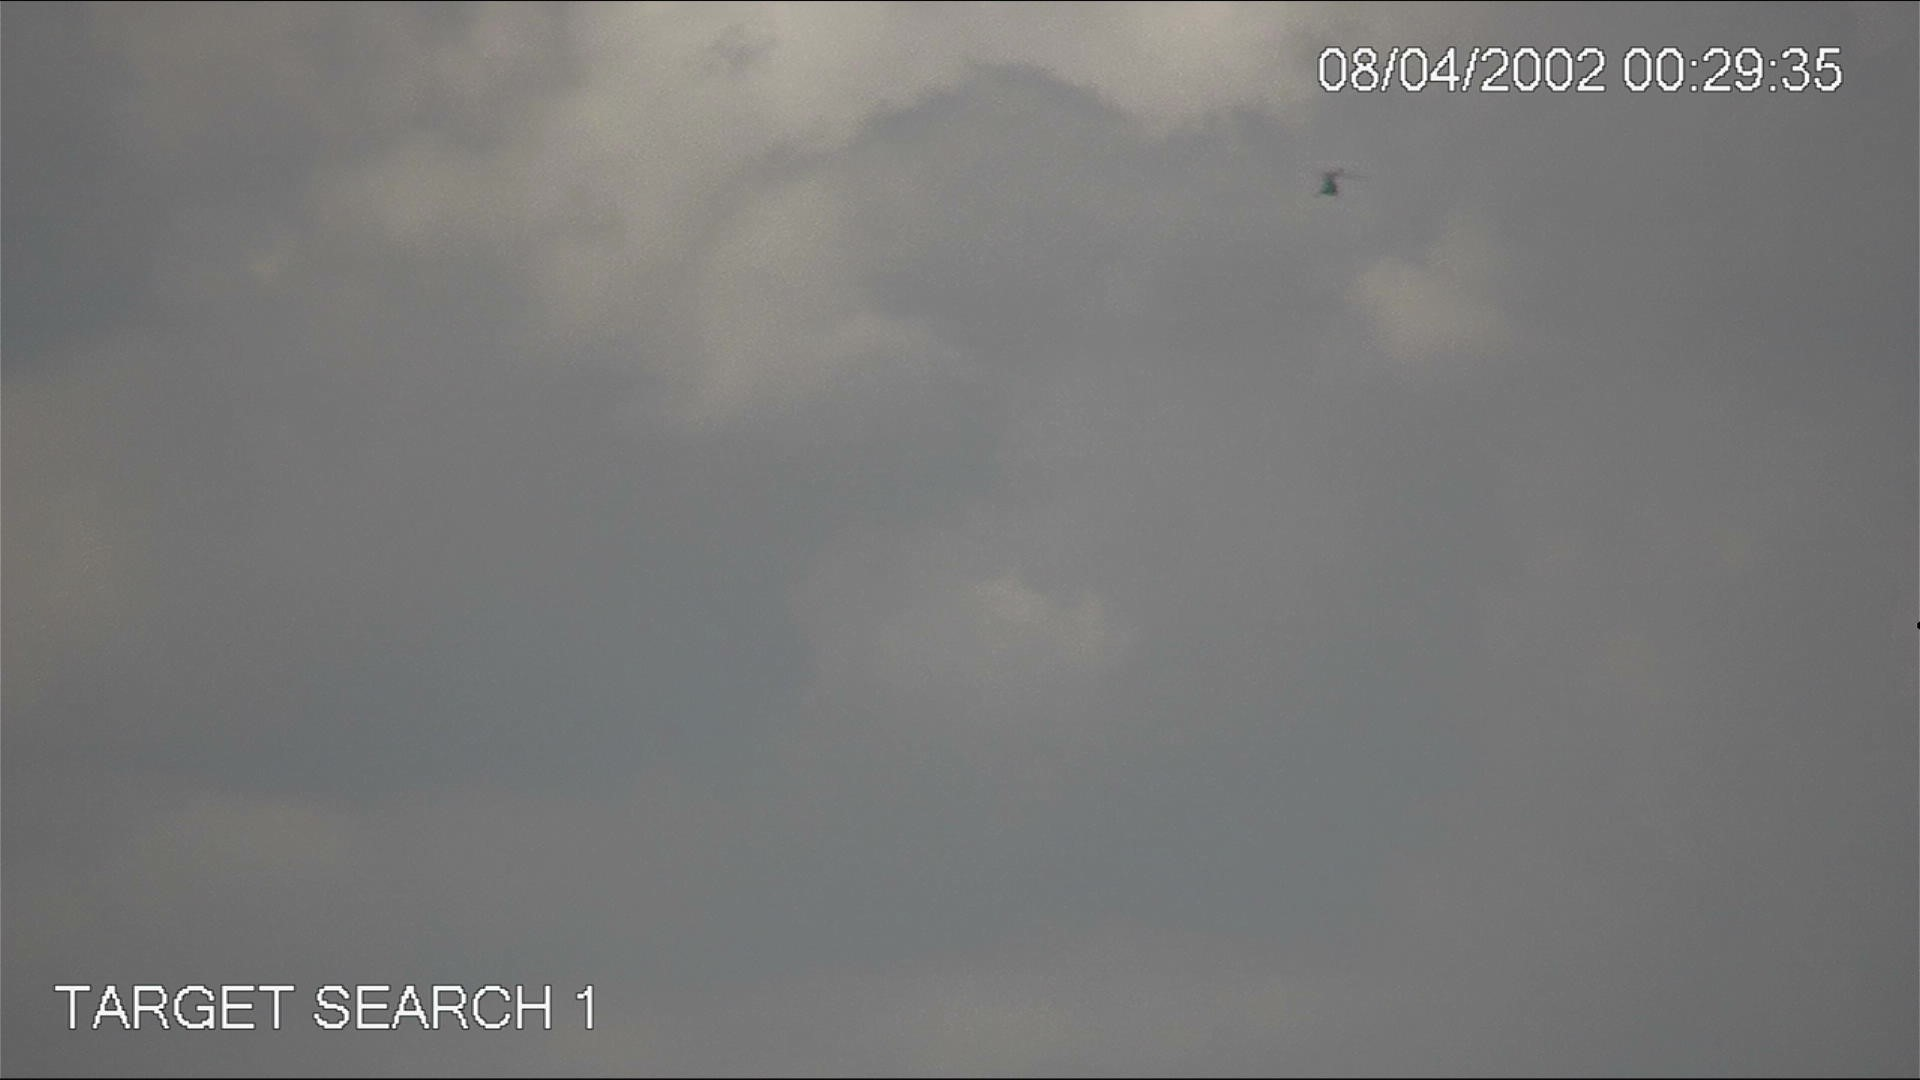SU_30: (1302, 161, 1362, 202)
